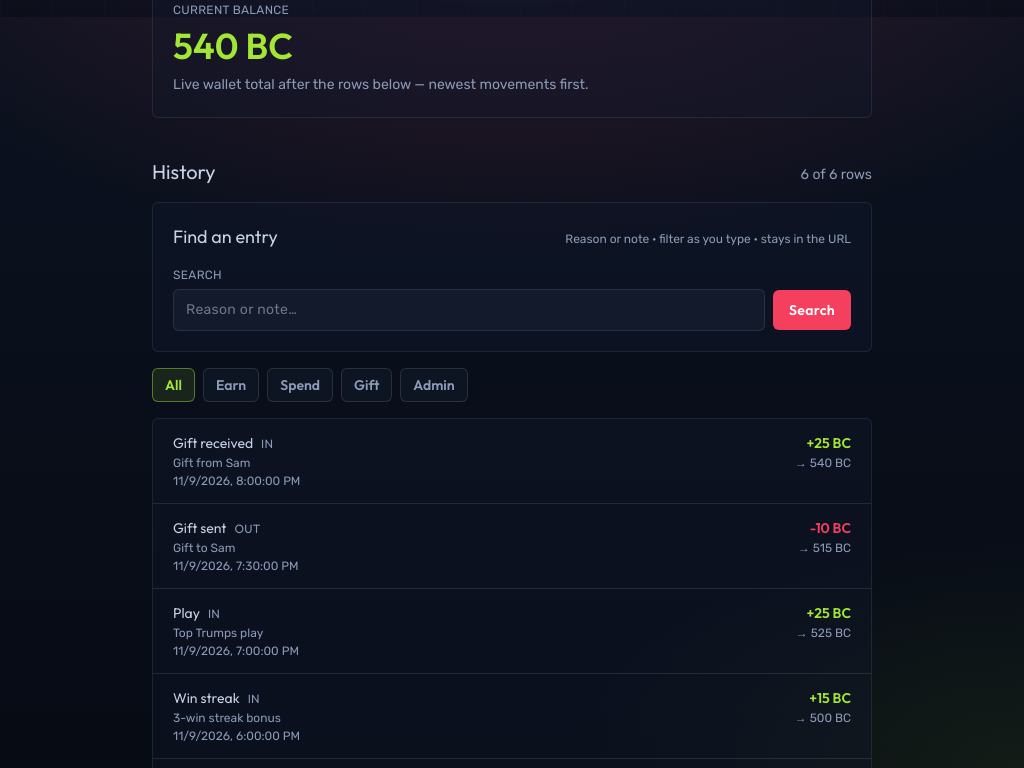
LedgerPage Midnight Garage UI › filters history by type chips and URL
The image size is (1024, 768).
(page scrolled)
Step 1. Click the button "Spend" → (300, 385), box [267, 368, 333, 402]
(page scrolled)
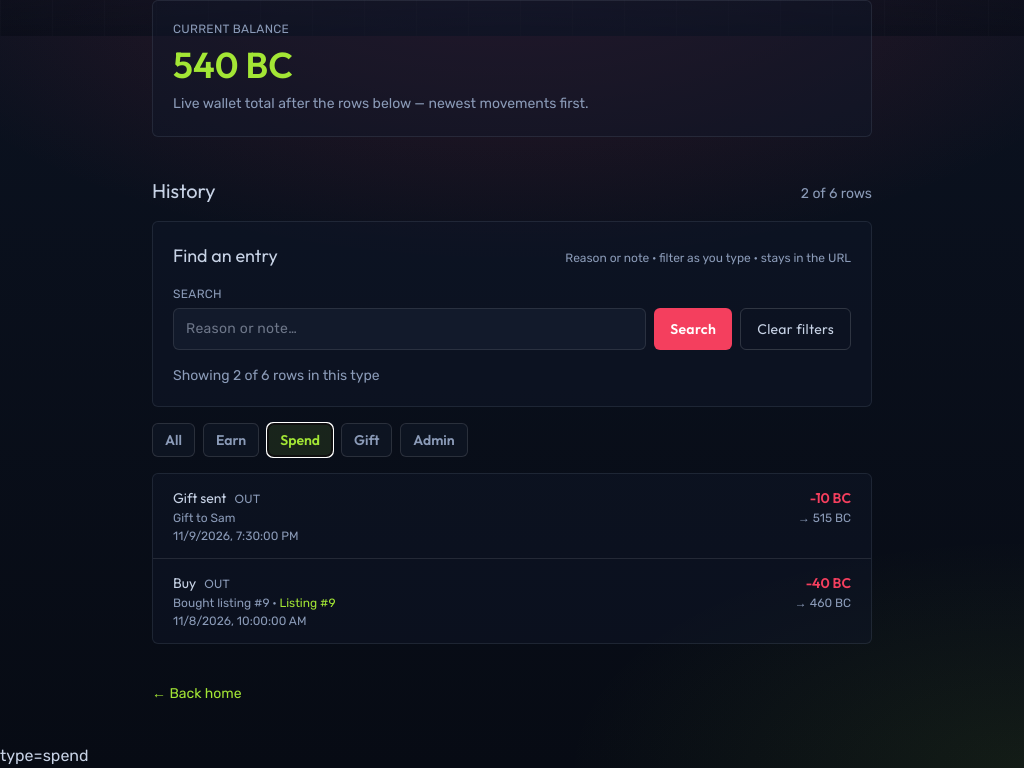
Expected: the list named "Brad Coin ledger entries" shows "Buy", [173, 574, 196, 592]
Now the text with test id "ledger-params" reads "type=spend", box [0, 746, 89, 765]
Now the list named "Brad Coin ledger entries" no longer shows "Gift received", box [152, 473, 872, 644]
Step 2. Click the button "Earn" → (231, 440), box [203, 423, 259, 457]
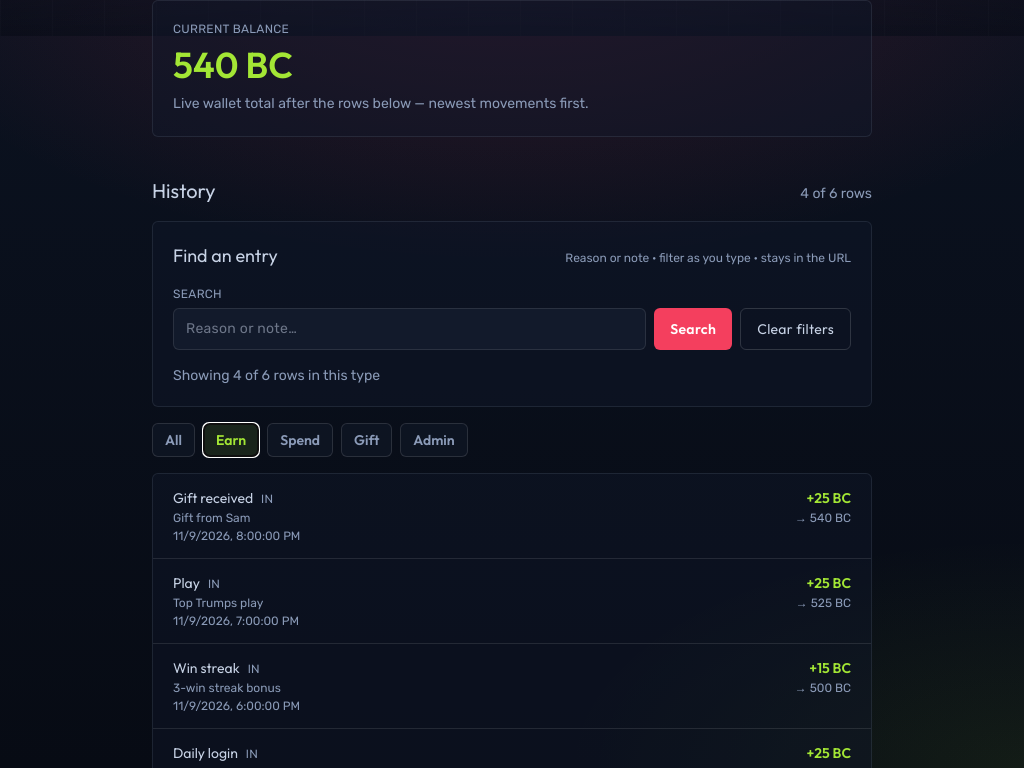
Now the list named "Brad Coin ledger entries" shows "Win streak", box [173, 659, 240, 677]
Now the list named "Brad Coin ledger entries" shows "Daily", box [173, 744, 238, 762]
Now the list named "Brad Coin ledger entries" shows "Gift received", box [173, 489, 253, 507]
Step 3. Click the button "Gift" → (367, 440), box [341, 423, 392, 457]
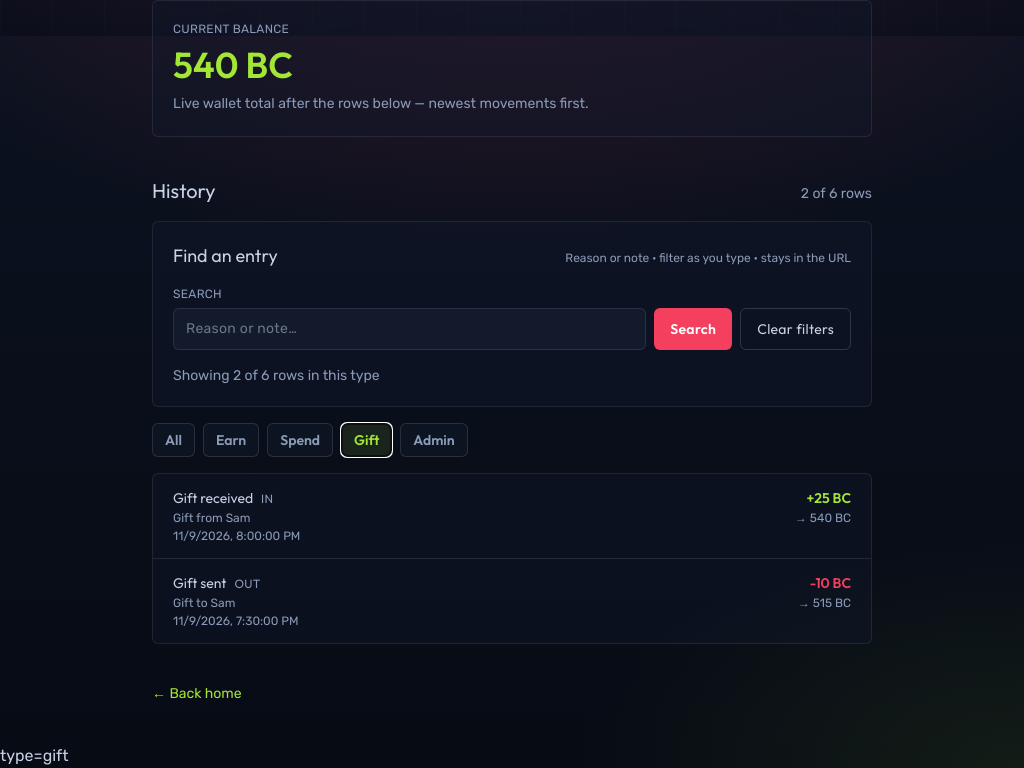
Expected: the list named "Brad Coin ledger entries" does not show "Buy", [152, 473, 872, 644]
Now the list named "Brad Coin ledger entries" shows "Gift received", box [173, 489, 253, 507]
Now the list named "Brad Coin ledger entries" shows "Gift sent", box [173, 574, 226, 592]
Step 4. Click the button "Admin" → (434, 440), box [400, 423, 468, 457]
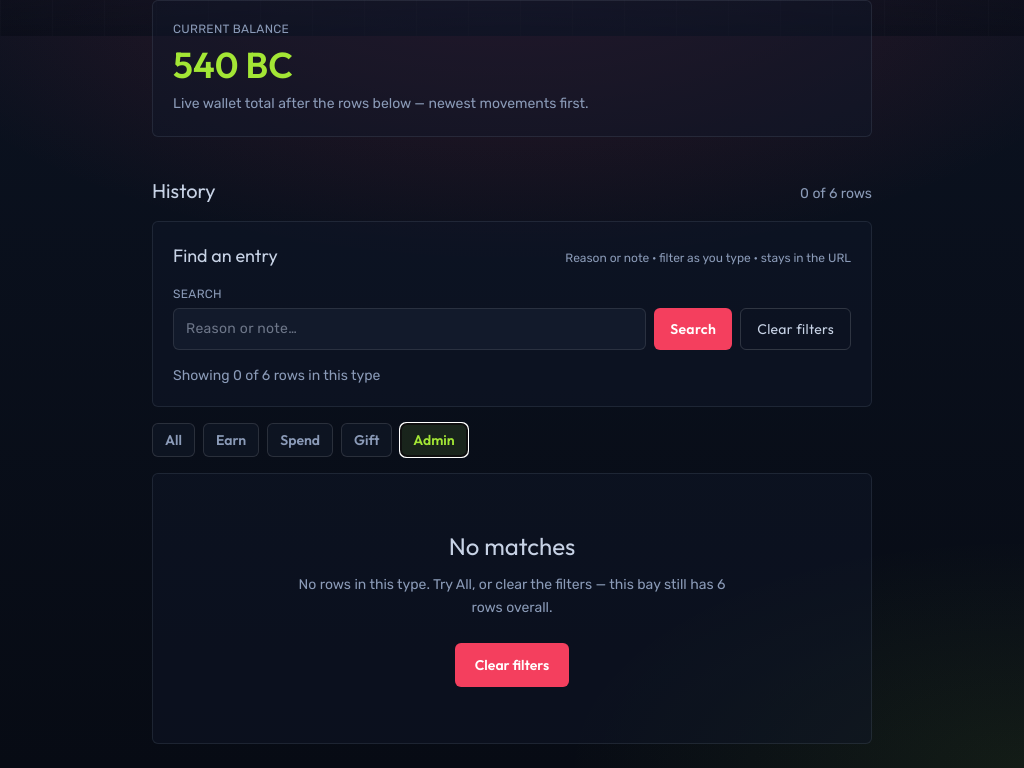
Now the text "No matches" is shown, box [449, 531, 575, 561]
Now the message named "No matching ledger entries" is shown, box [152, 473, 872, 744]
Step 5. Click the button "Clear filters" below "No matches" → (512, 665), box [455, 643, 569, 687]
(page scrolled)
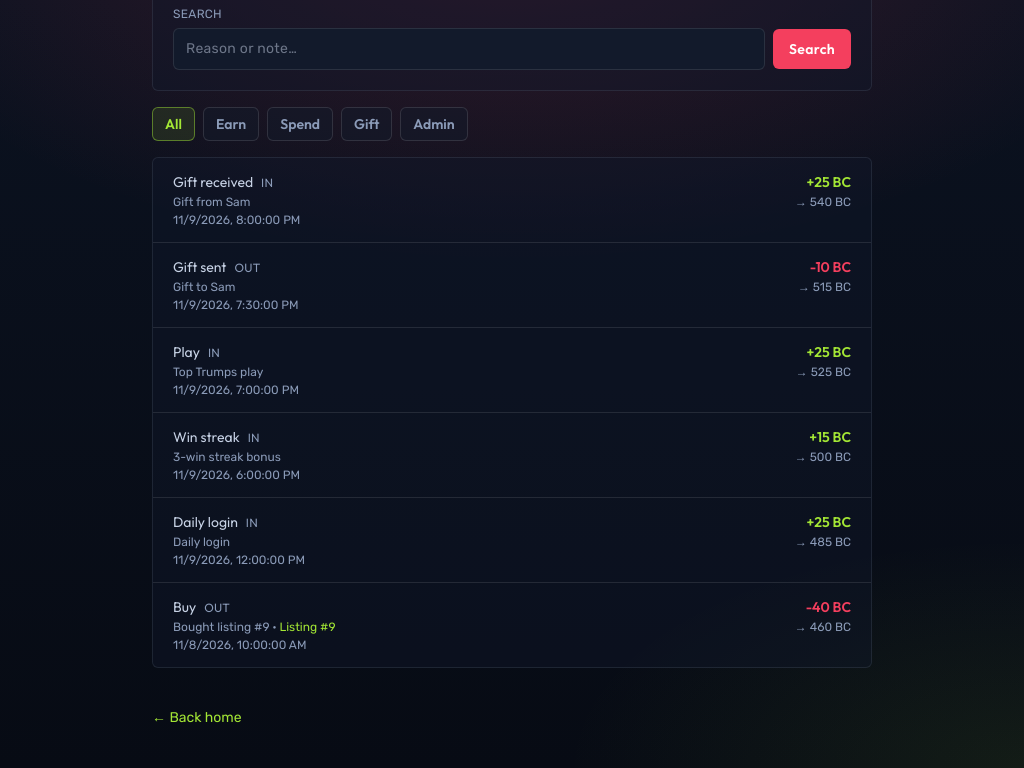
Now the list named "Brad Coin ledger entries" shows "Buy", box [173, 598, 196, 616]
